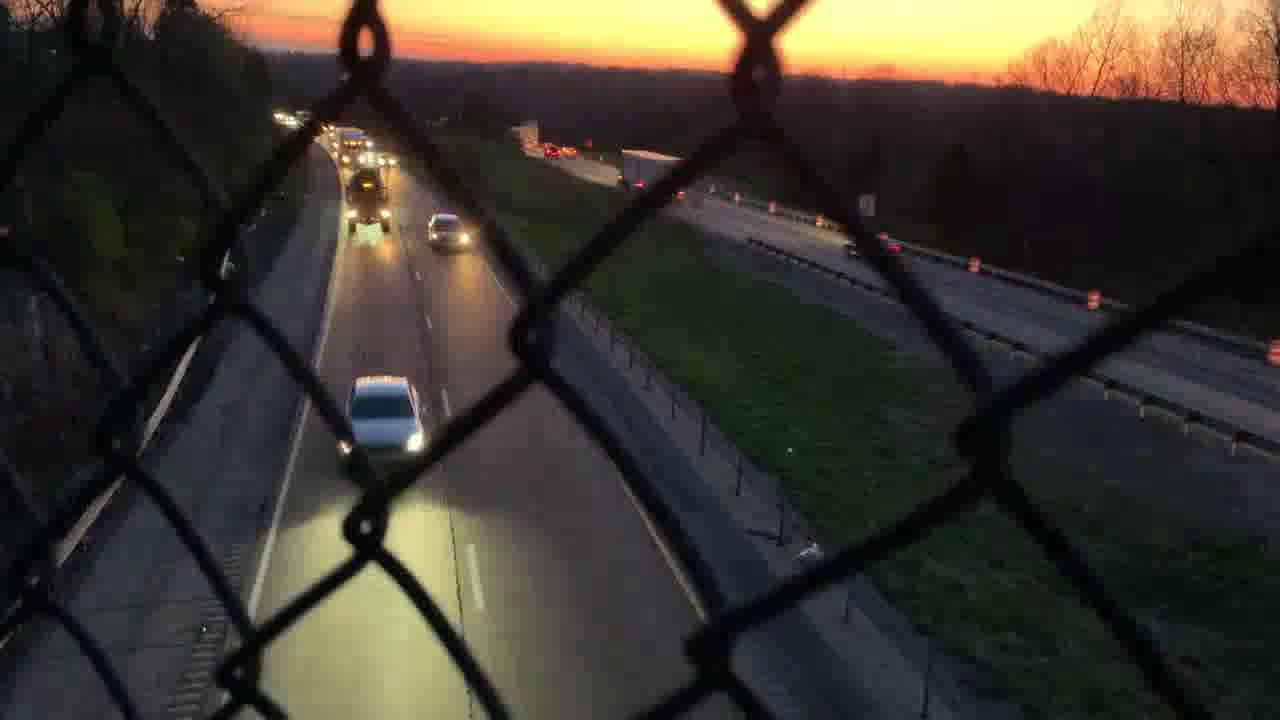heavyTruck: (344, 167, 396, 239), (618, 148, 686, 202)
smallCar: (341, 372, 425, 472), (424, 213, 470, 254)
